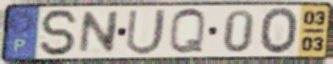0: (221, 8, 256, 54)
N: (76, 9, 122, 56)
O: (259, 6, 300, 56)
Q: (167, 7, 208, 57)
S: (38, 8, 81, 58)
U: (124, 7, 169, 57)
